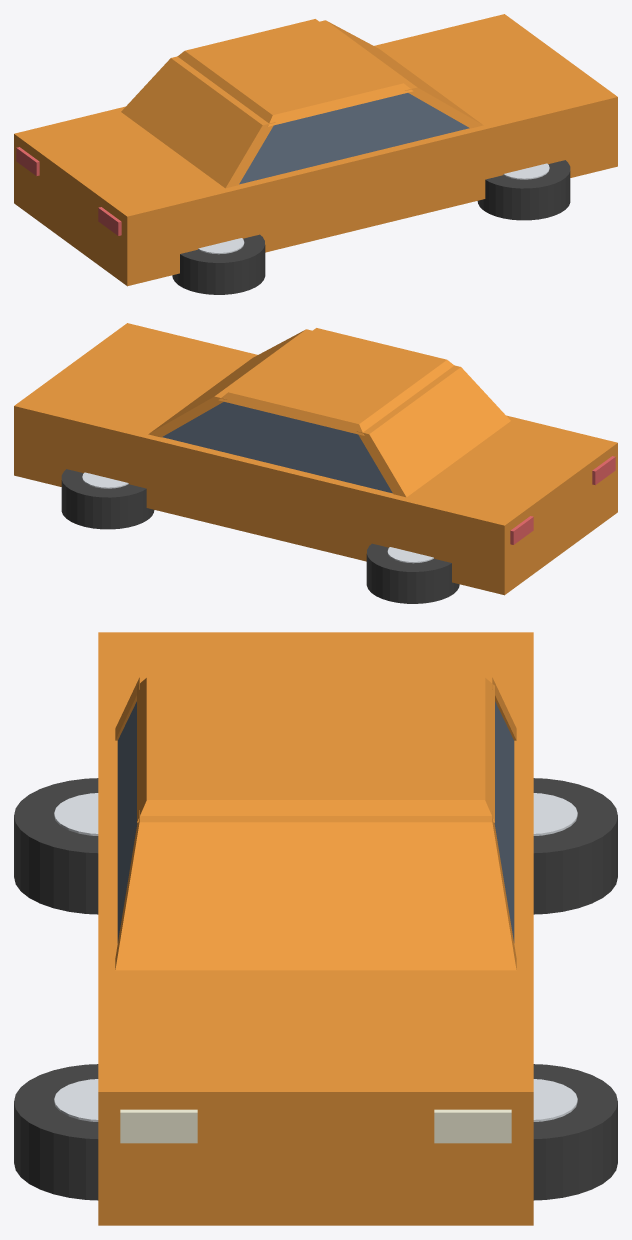
The model's file is nissan_almera.glb.
The picture shows the model from 3 angles, top to bottom: view 1: azimuth 30°, elevation 25°; view 2: azimuth 150°, elevation 25°; view 3: azimuth 270°, elevation 25°; orthographic projection. The views are drawn at different scales.
Visible parts, largest first — view 1: geometry_0, geometry_2, geometry_4, geometry_1, geometry_5, geometry_9, geometry_3, geometry_6, geometry_10, geometry_16, geometry_14; view 2: geometry_0, geometry_2, geometry_4, geometry_1, geometry_7, geometry_11, geometry_3, geometry_8, geometry_12, geometry_14, geometry_16; view 3: geometry_0, geometry_3, geometry_2, geometry_9, geometry_11, geometry_5, geometry_7, geometry_1, geometry_13, geometry_15, geometry_6, geometry_8 (+3 smaller).
Boxes of the visible parts, x1=… form: geometry_0: x1=14, y1=14, x2=617, y2=286; geometry_2: x1=177, y1=19, x2=413, y2=126; geometry_4: x1=121, y1=56, x2=275, y2=188; geometry_1: x1=239, y1=93, x2=469, y2=184; geometry_5: x1=477, y1=160, x2=570, y2=220; geometry_9: x1=172, y1=234, x2=265, y2=294; geometry_3: x1=320, y1=20, x2=483, y2=128; geometry_6: x1=503, y1=163, x2=549, y2=179; geometry_10: x1=198, y1=238, x2=244, y2=254; geometry_16: x1=16, y1=147, x2=39, y2=176; geometry_14: x1=98, y1=207, x2=121, y2=235; geometry_0: x1=14, y1=323, x2=617, y2=595; geometry_2: x1=218, y1=328, x2=454, y2=435; geometry_4: x1=356, y1=365, x2=510, y2=497; geometry_1: x1=162, y1=402, x2=392, y2=493; geometry_7: x1=61, y1=469, x2=154, y2=529; geometry_11: x1=366, y1=543, x2=459, y2=603; geometry_3: x1=148, y1=329, x2=311, y2=437; geometry_8: x1=82, y1=472, x2=128, y2=488; geometry_12: x1=387, y1=547, x2=433, y2=563; geometry_14: x1=592, y1=456, x2=615, y2=485; geometry_16: x1=510, y1=516, x2=533, y2=544; geometry_0: x1=98, y1=632, x2=533, y2=1225; geometry_3: x1=115, y1=810, x2=516, y2=970; geometry_2: x1=137, y1=677, x2=494, y2=822; geometry_9: x1=14, y1=778, x2=98, y2=914; geometry_11: x1=533, y1=778, x2=617, y2=914; geometry_5: x1=14, y1=1064, x2=98, y2=1200; geometry_7: x1=533, y1=1064, x2=617, y2=1200; geometry_1: x1=117, y1=701, x2=514, y2=942; geometry_13: x1=120, y1=1109, x2=197, y2=1143; geometry_15: x1=434, y1=1109, x2=511, y2=1143; geometry_6: x1=54, y1=1079, x2=98, y2=1121; geometry_8: x1=533, y1=1079, x2=577, y2=1121.
Size of the model in its own units: 4.56 by 1.2 by 2.5.
